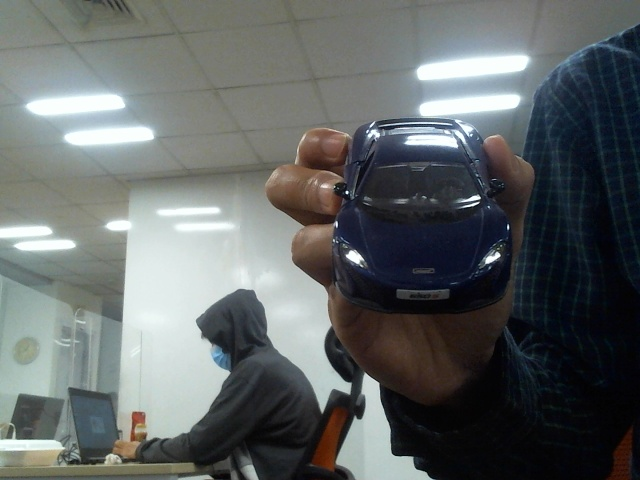car: (329, 117, 513, 313)
